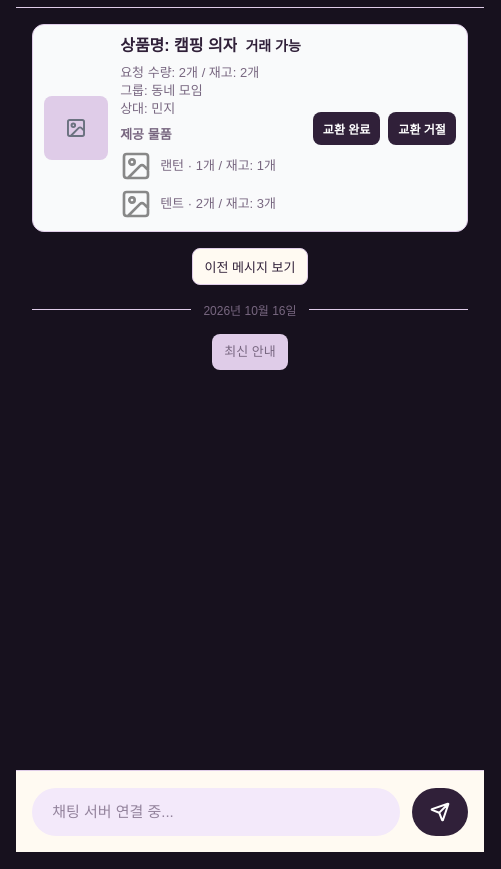
it: 이전 메시지도 BFF로 같은 커서를 전달하고 중복 없이 앞에 추가한다
Click the button "이전 메시지 보기".
click(250, 266)  # box [192,248,308,285]
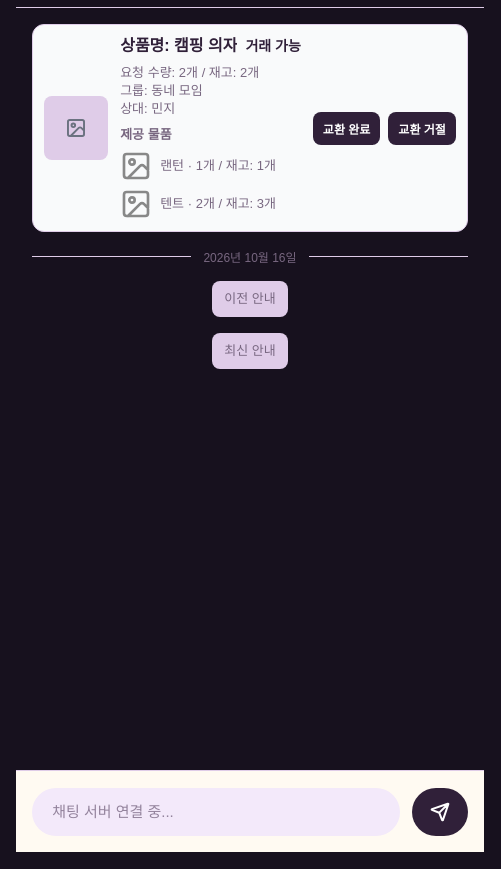
Result: the text "이전 안내" is shown at [212,281,288,317]
Result: the text "최신 안내" is shown once at [212,333,288,369]
Result: the button "이전 메시지 보기" is gone
